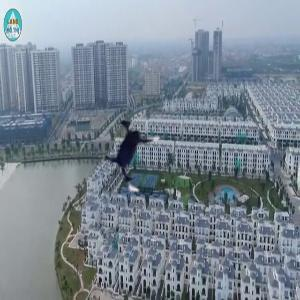drone: (86, 104, 181, 199)
